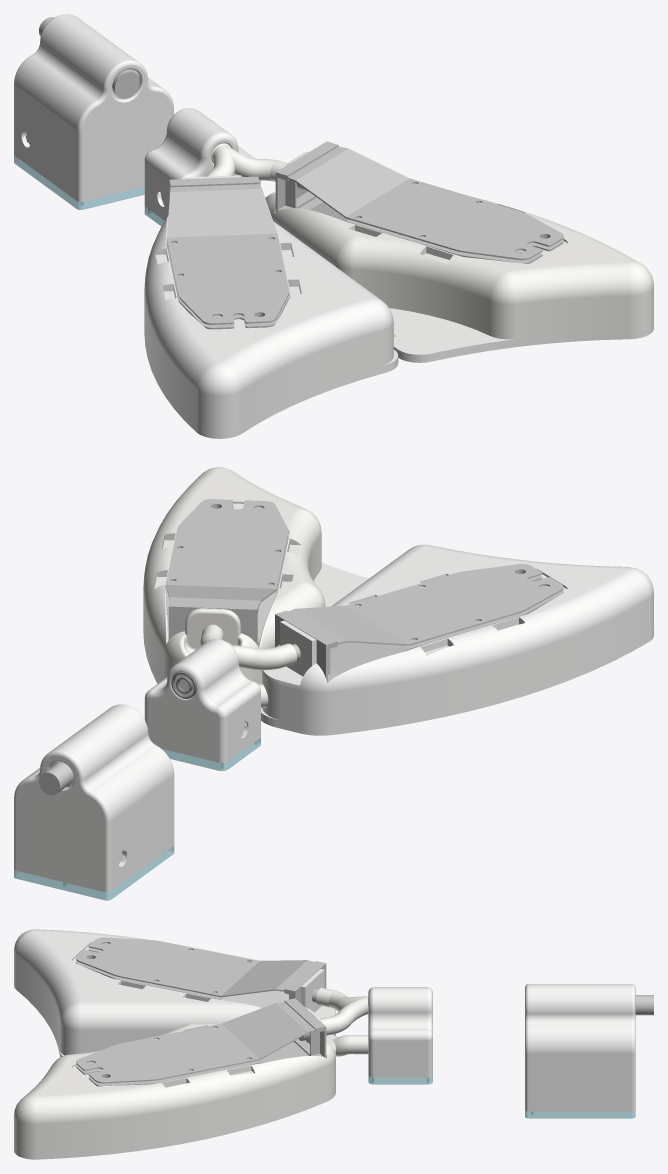
File: lusim.glb
3 renders of one model, top to bottom at view 1: azimuth 30°, elevation 25°; view 2: azimuth 150°, elevation 25°; view 3: azimuth 270°, elevation 25°, orthographic. The views are drawn at different scales.
Parts seen in each view (by area): view 1: Corps1.009, Corps1.016, Corps1.017, Echelle1.001, Echelle1, Corps1.001, Corps1.012, Corps1, Corps2.002, Corps1.015, Corps1.018; view 2: Corps1.009, Corps1.017, Echelle1, Corps1.016, Echelle1.001, Corps1.012, Corps1, Corps2.002, Corps1.001, Corps1.015, Corps1.011, Corps1.018; view 3: Corps1.016, Corps1.009, Corps1.017, Echelle1.001, Echelle1, Corps1.012, Corps1.001, Corps2.002, Corps1.015, Corps1.013, Corps1.011, Corps1.018 (+1 smaller).
Part boxes in pixels (x1,y1,x2,y2): Corps1.009: (144,175,393,430); Corps1.016: (265,152,653,339); Corps1.017: (14,14,173,201); Echelle1.001: (275,141,563,263); Echelle1: (166,176,289,329); Corps1.001: (389,308,653,362); Corps1.012: (144,108,260,220); Corps1: (144,327,398,438); Corps2.002: (205,143,287,181); Corps1.015: (14,155,144,209); Corps1.018: (39,17,139,98); Corps1.009: (262,544,653,727); Corps1.017: (14,704,174,892); Echelle1: (275,563,563,682); Corps1.016: (143,467,325,684); Echelle1.001: (165,499,288,646); Corps1.012: (144,639,260,762); Corps1: (261,629,653,735); Corps2.002: (200,625,296,670); Corps1.001: (143,562,368,683); Corps1.015: (14,845,174,900); Corps1.011: (162,737,260,771); Corps1.018: (39,761,73,795); Corps1.016: (14,1008,335,1152); Corps1.009: (14,929,335,1055); Corps1.017: (525,984,635,1111); Echelle1.001: (76,998,326,1086); Echelle1: (76,937,326,1007); Corps1.012: (368,987,432,1077); Corps1.001: (14,1087,335,1159); Corps2.002: (316,987,368,1035); Corps1.015: (525,1110,635,1118); Corps1.013: (326,1034,368,1056); Corps1.011: (368,1076,432,1084); Corps1.018: (635,995,653,1015).
Bounding box in the file's own units: 0.4692 × 0.1355 × 0.6948.
